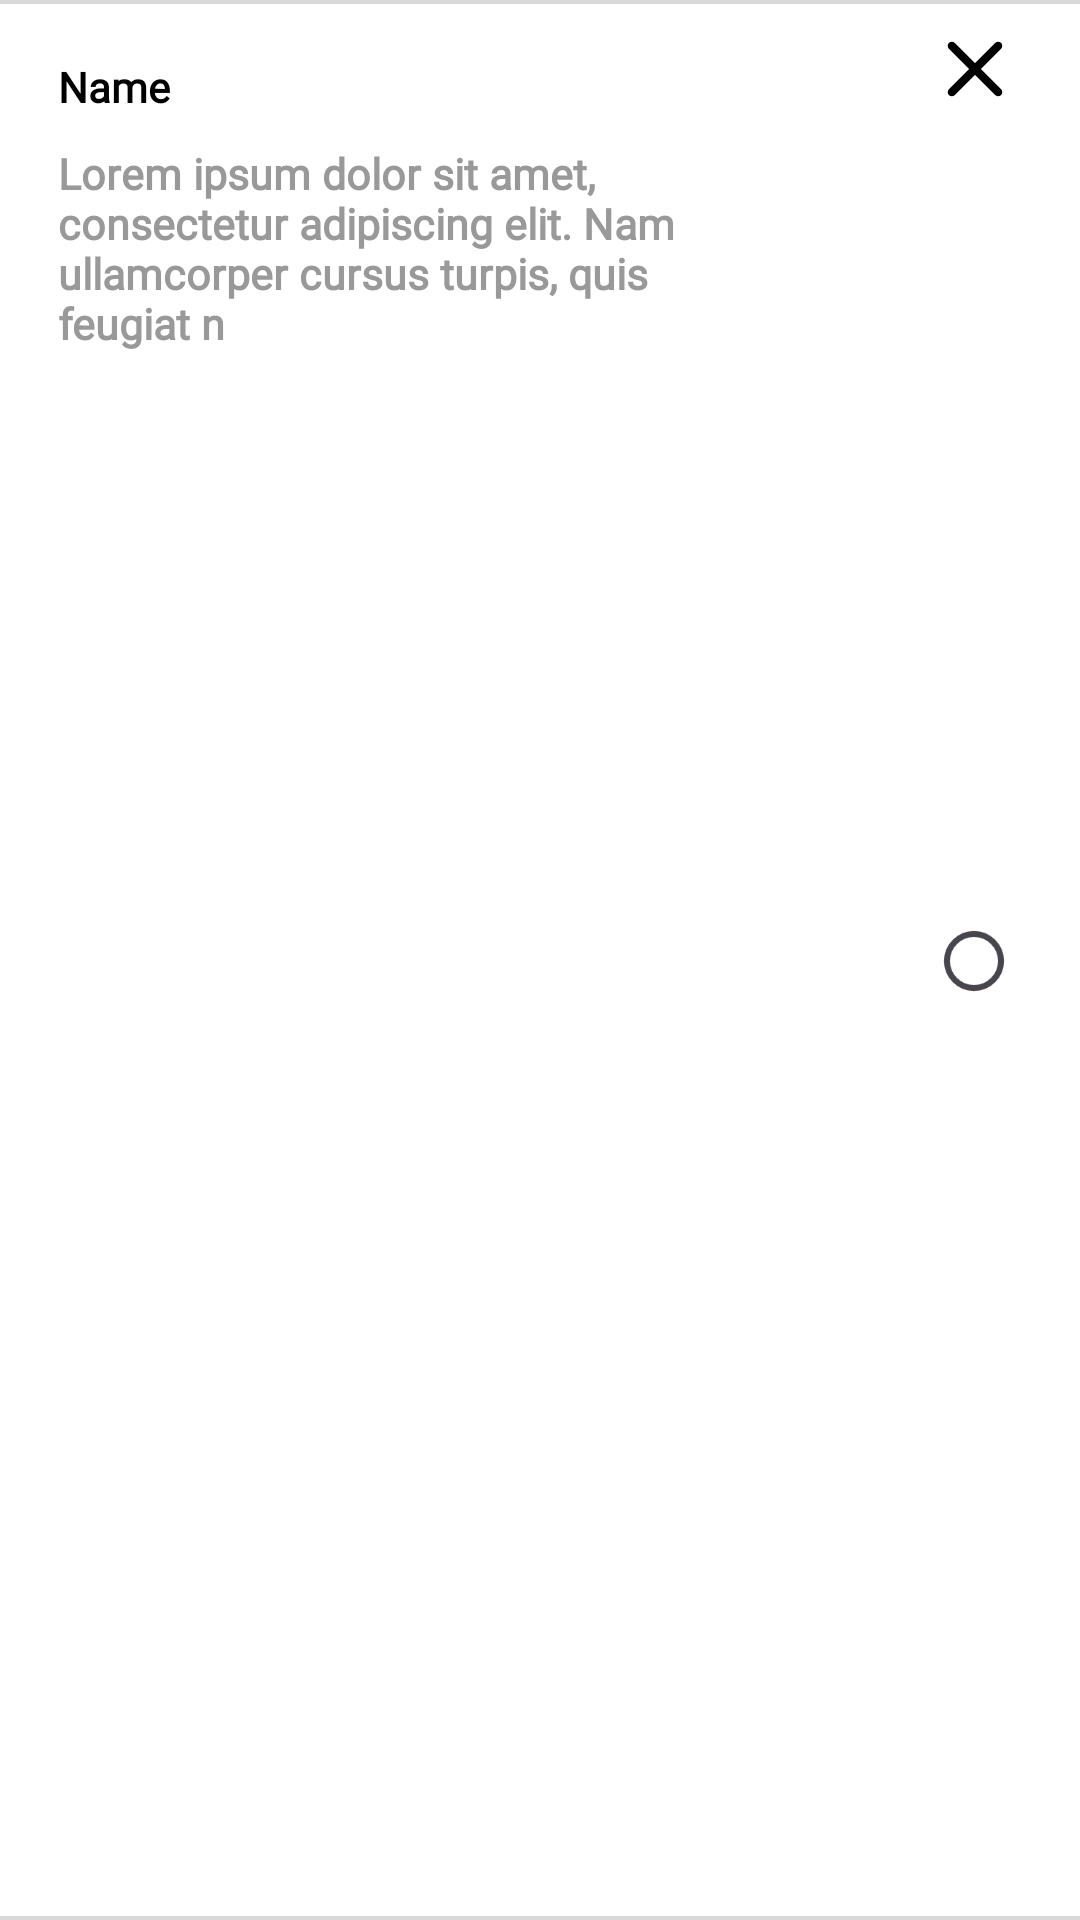

Named icons in this screenshot (1080px x 1920px) and their centers, (x=x, y=y):
cross: (x=975, y=69)
